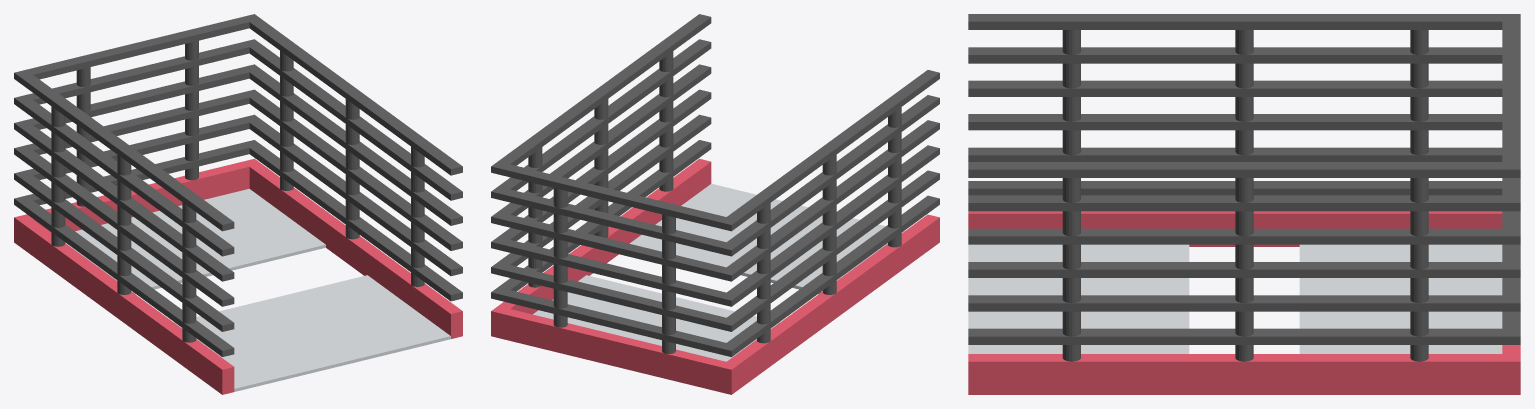
File: finish_straight.glb
3 views of the same model, side by side, from view 1: azimuth 30°, elevation 25°; view 2: azimuth 150°, elevation 25°; view 3: azimuth 270°, elevation 25° (orthographic). The views are drawn at different scales.
Parts seen in each view (by area): view 1: obj_0; view 2: obj_0; view 3: obj_0.
Part boxes in pixels (bbox=[...]): obj_0: bbox=[14, 14, 462, 394]; obj_0: bbox=[491, 14, 939, 394]; obj_0: bbox=[968, 14, 1520, 394].
Size of the model in its own units: 20 by 13.5 by 30.
